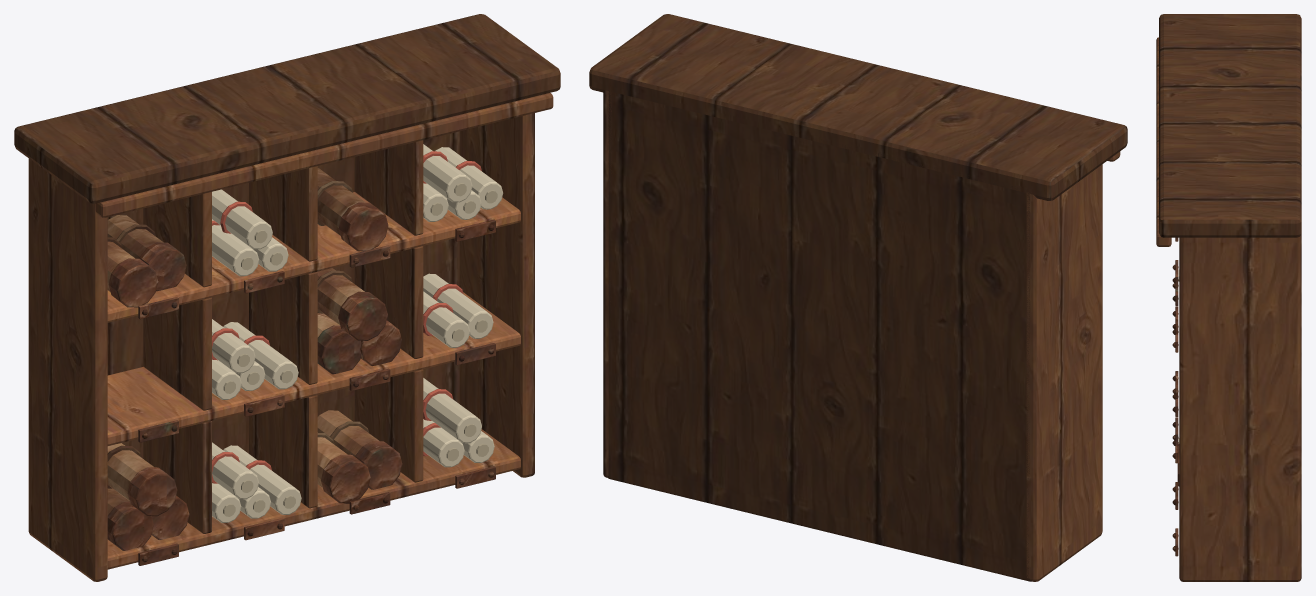
File: rt_map_tube_rack.glb
3 renders of one model, left to right at view 1: azimuth 30°, elevation 25°; view 2: azimuth 150°, elevation 25°; view 3: azimuth 270°, elevation 25°, orthographic. The views are drawn at different scales.
Visible parts, largest first — view 1: model; view 2: model; view 3: model.
Boxes of the visible parts, x1=… form: model: x1=14, y1=14, x2=560, y2=581; model: x1=589, y1=14, x2=1127, y2=581; model: x1=1156, y1=14, x2=1301, y2=581.
Bounding box in the file's own units: 0.96 × 0.8025 × 0.285.
13 materials, 10 textured.
